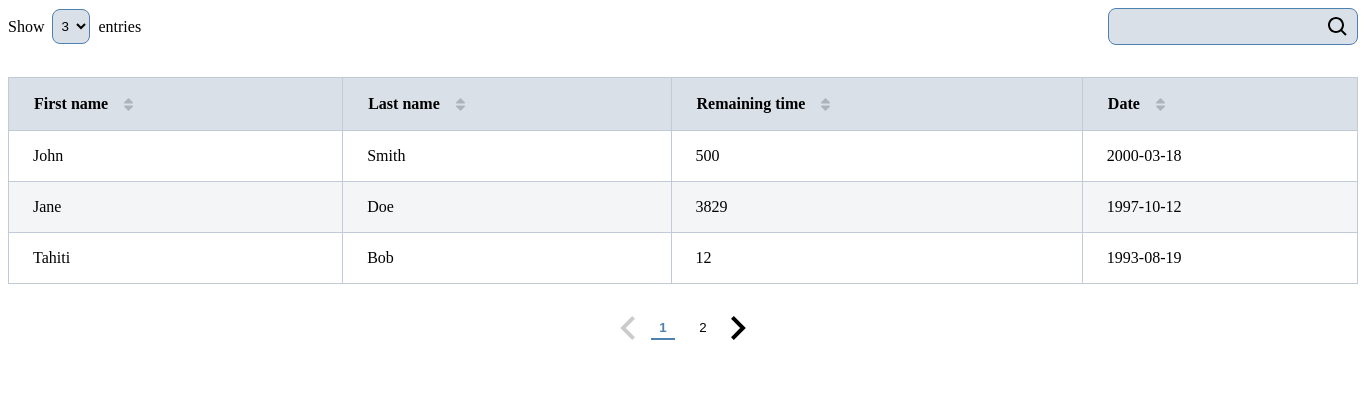
Table › changing the number of entries updates the table
This screenshot has width=1366, height=403.
Select "5" in the dropdown with test id "entries-selector" at (72, 26), box [52,9,90,44]
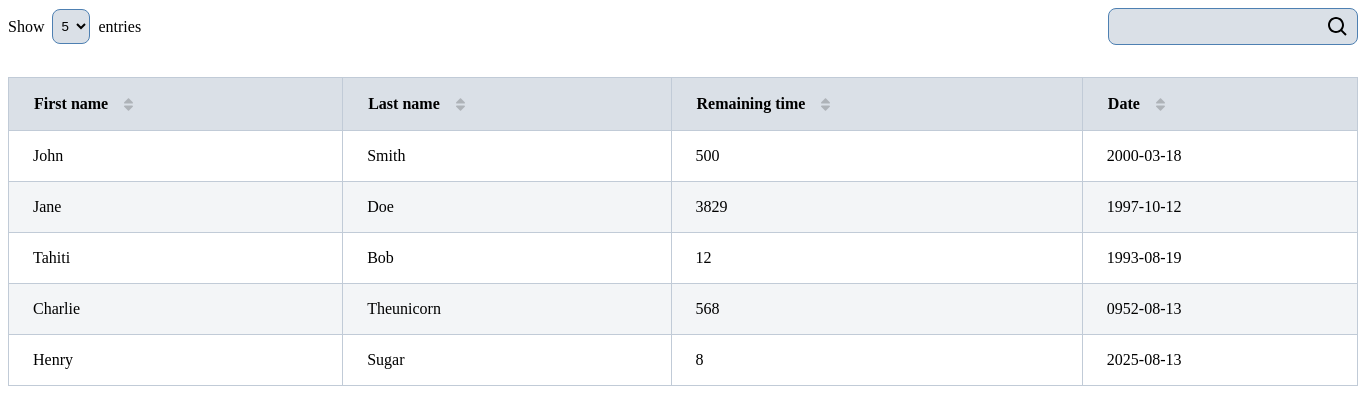
Expected: the number of rows with test id "table-row" is 5, [8,130,1358,182]; [8,182,1358,232]; [8,232,1358,284]; [8,284,1358,334]; [8,334,1358,386]
